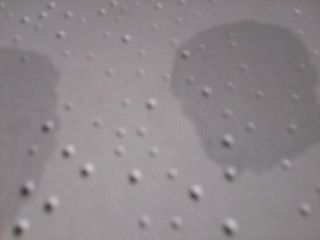Water_detected: (0, 73, 83, 227), (210, 52, 283, 140)
